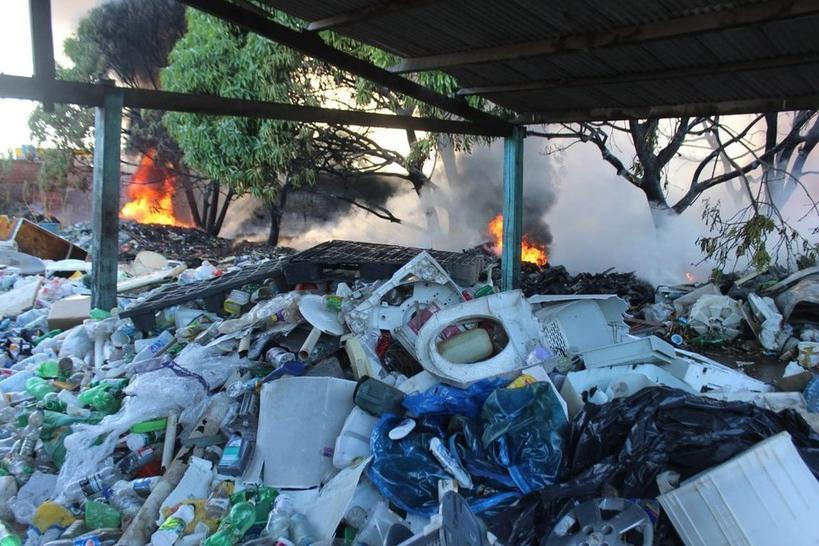Fire: (121, 150, 193, 224), (520, 237, 549, 272), (489, 211, 508, 256)
